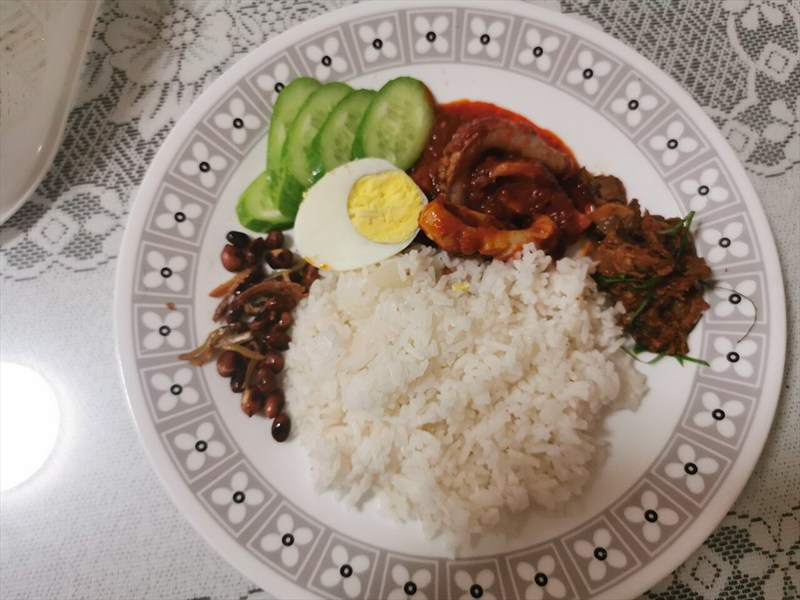Rendang: (182, 74, 723, 491)
